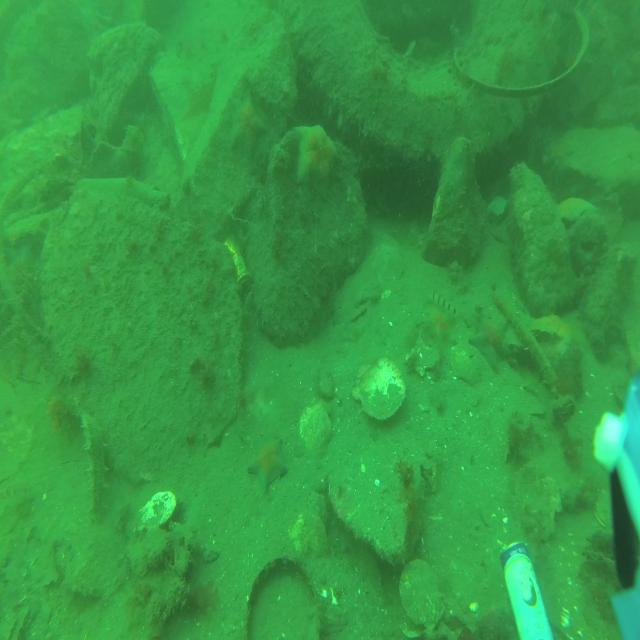holothurian: (80, 411, 109, 521)
scallop: (398, 561, 446, 635), (290, 512, 330, 564), (139, 489, 177, 533), (299, 402, 330, 454)
starfish: (293, 124, 337, 185), (228, 90, 266, 159), (467, 301, 510, 361), (248, 436, 288, 490), (531, 313, 568, 339), (558, 197, 592, 222)
